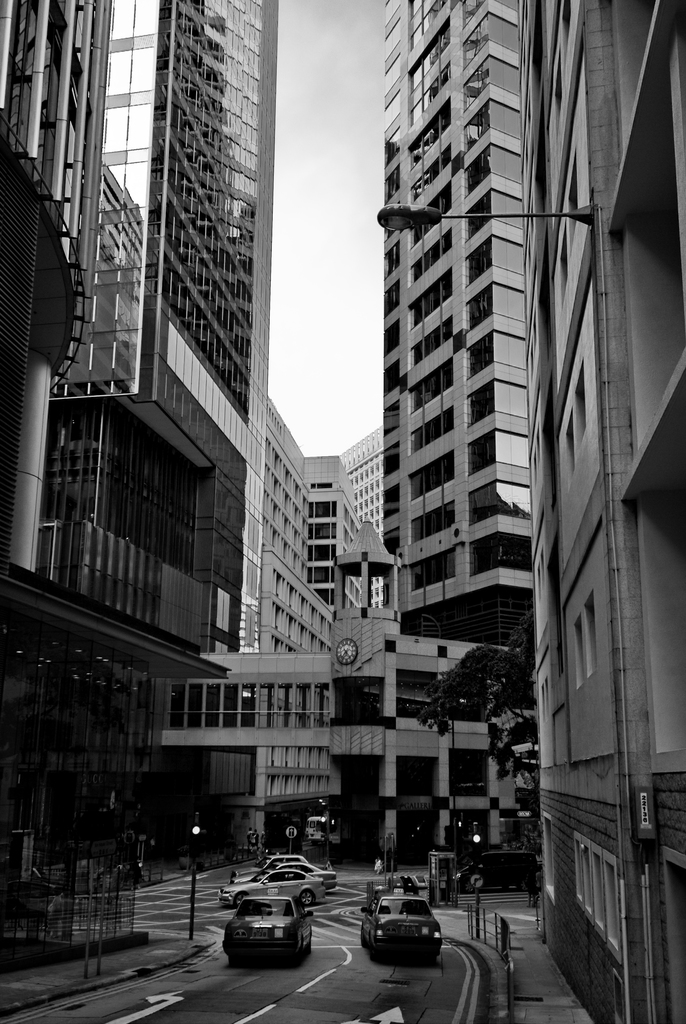Car: (221, 891, 312, 968), (361, 893, 442, 963), (216, 869, 326, 907), (228, 856, 336, 888), (233, 853, 333, 870)
